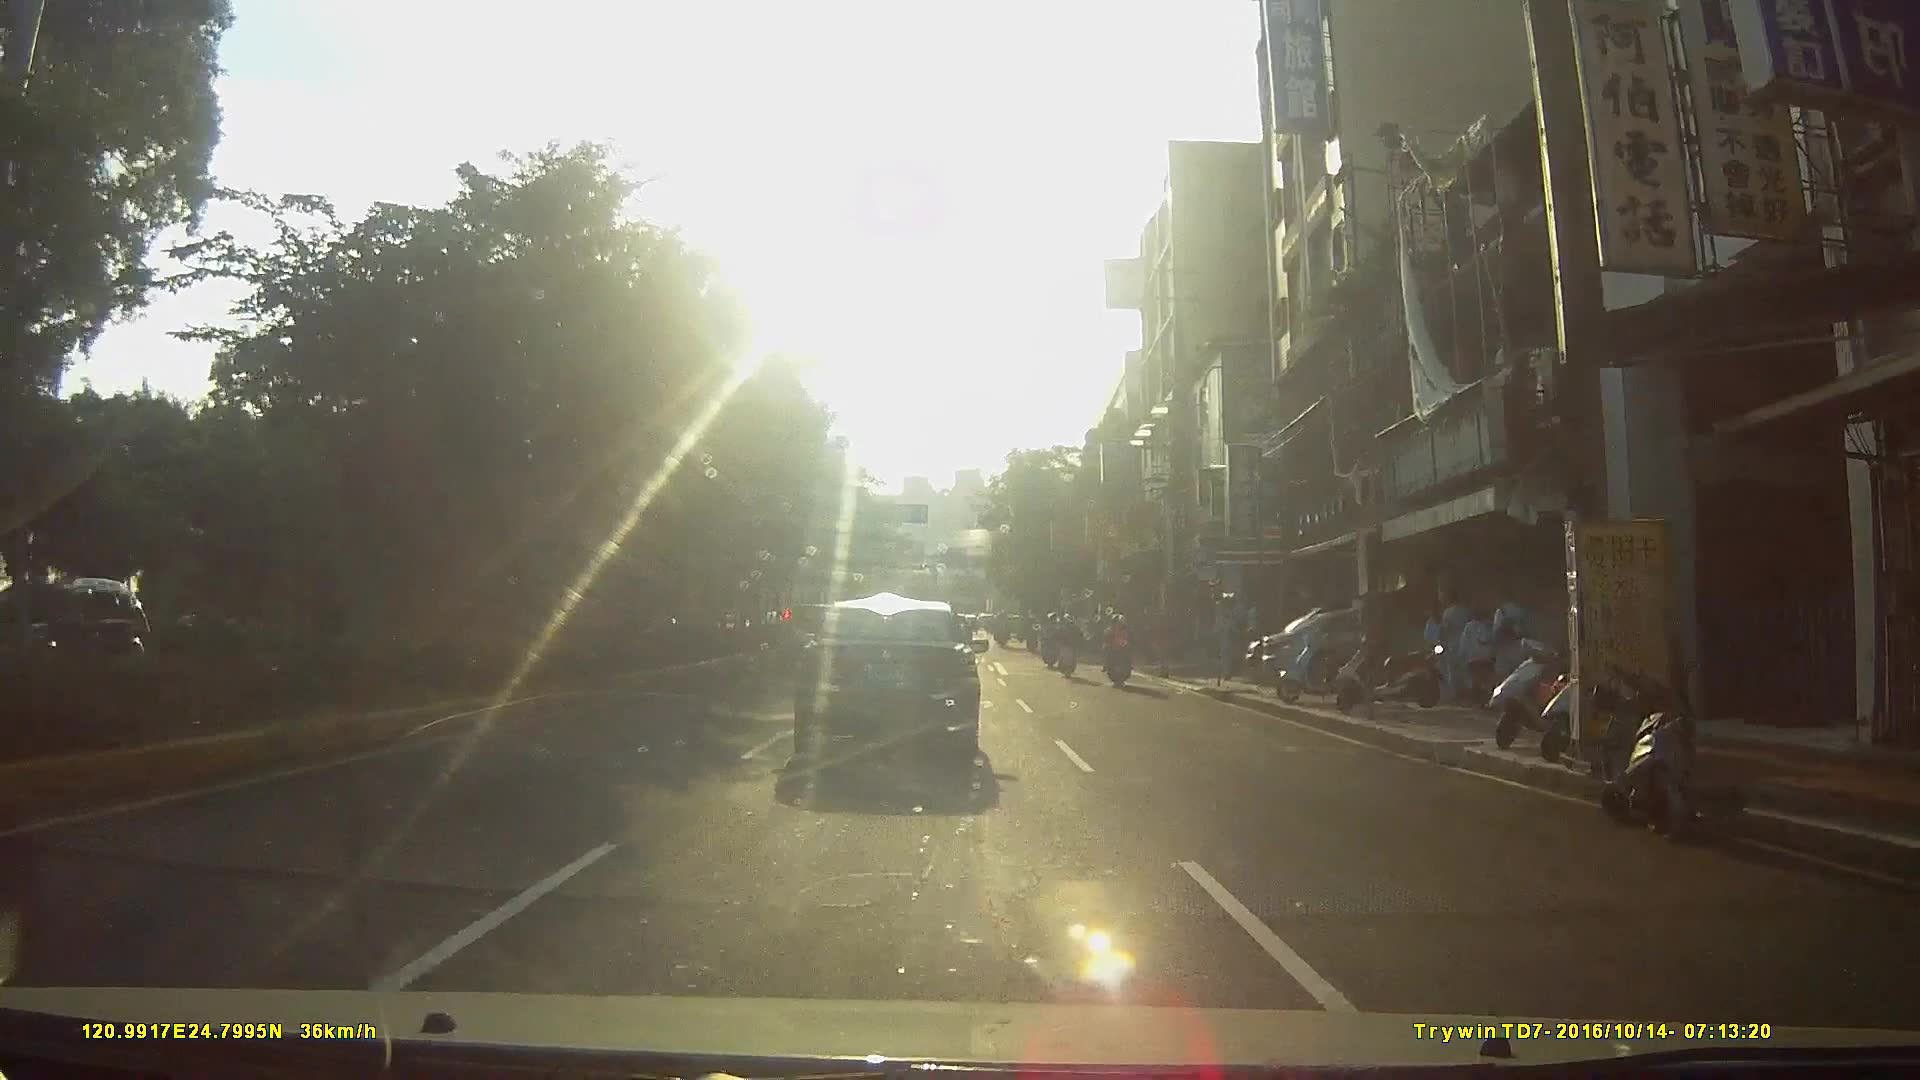pedestrian: (1490, 580, 1535, 726), (1450, 598, 1499, 714), (1441, 580, 1477, 712)
rider: (1104, 613, 1138, 692), (1055, 612, 1083, 680), (1042, 611, 1062, 670)
vehicle: (791, 598, 1005, 787), (1, 576, 154, 706)
